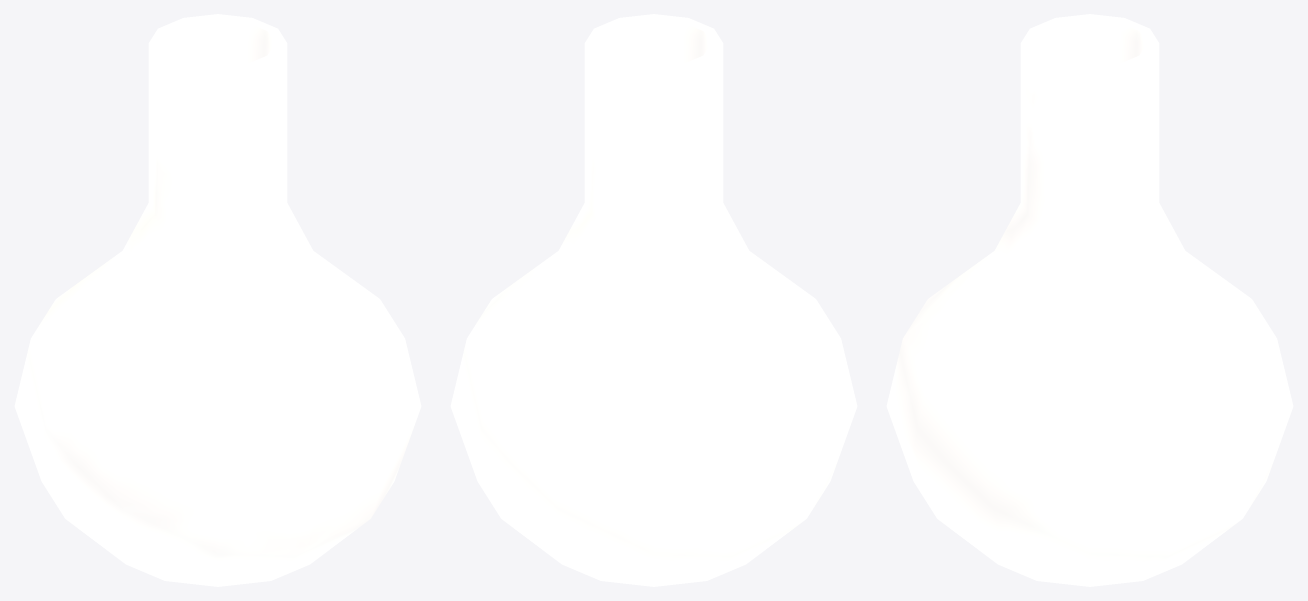
The model's file is flask.glb.
The picture shows the model from 3 angles, left to right: view 1: azimuth 30°, elevation 25°; view 2: azimuth 150°, elevation 25°; view 3: azimuth 270°, elevation 25°; orthographic projection.
Visible parts, largest first — view 1: defaultMaterial.011; view 2: defaultMaterial.011; view 3: defaultMaterial.011.
Boxes of the visible parts, bbox=[...] form: defaultMaterial.011: bbox=[14, 14, 421, 586]; defaultMaterial.011: bbox=[450, 14, 857, 586]; defaultMaterial.011: bbox=[886, 14, 1293, 586].
Size of the model in its own units: 0.3074 by 0.4156 by 0.3074.
1 material, 1 textured.
